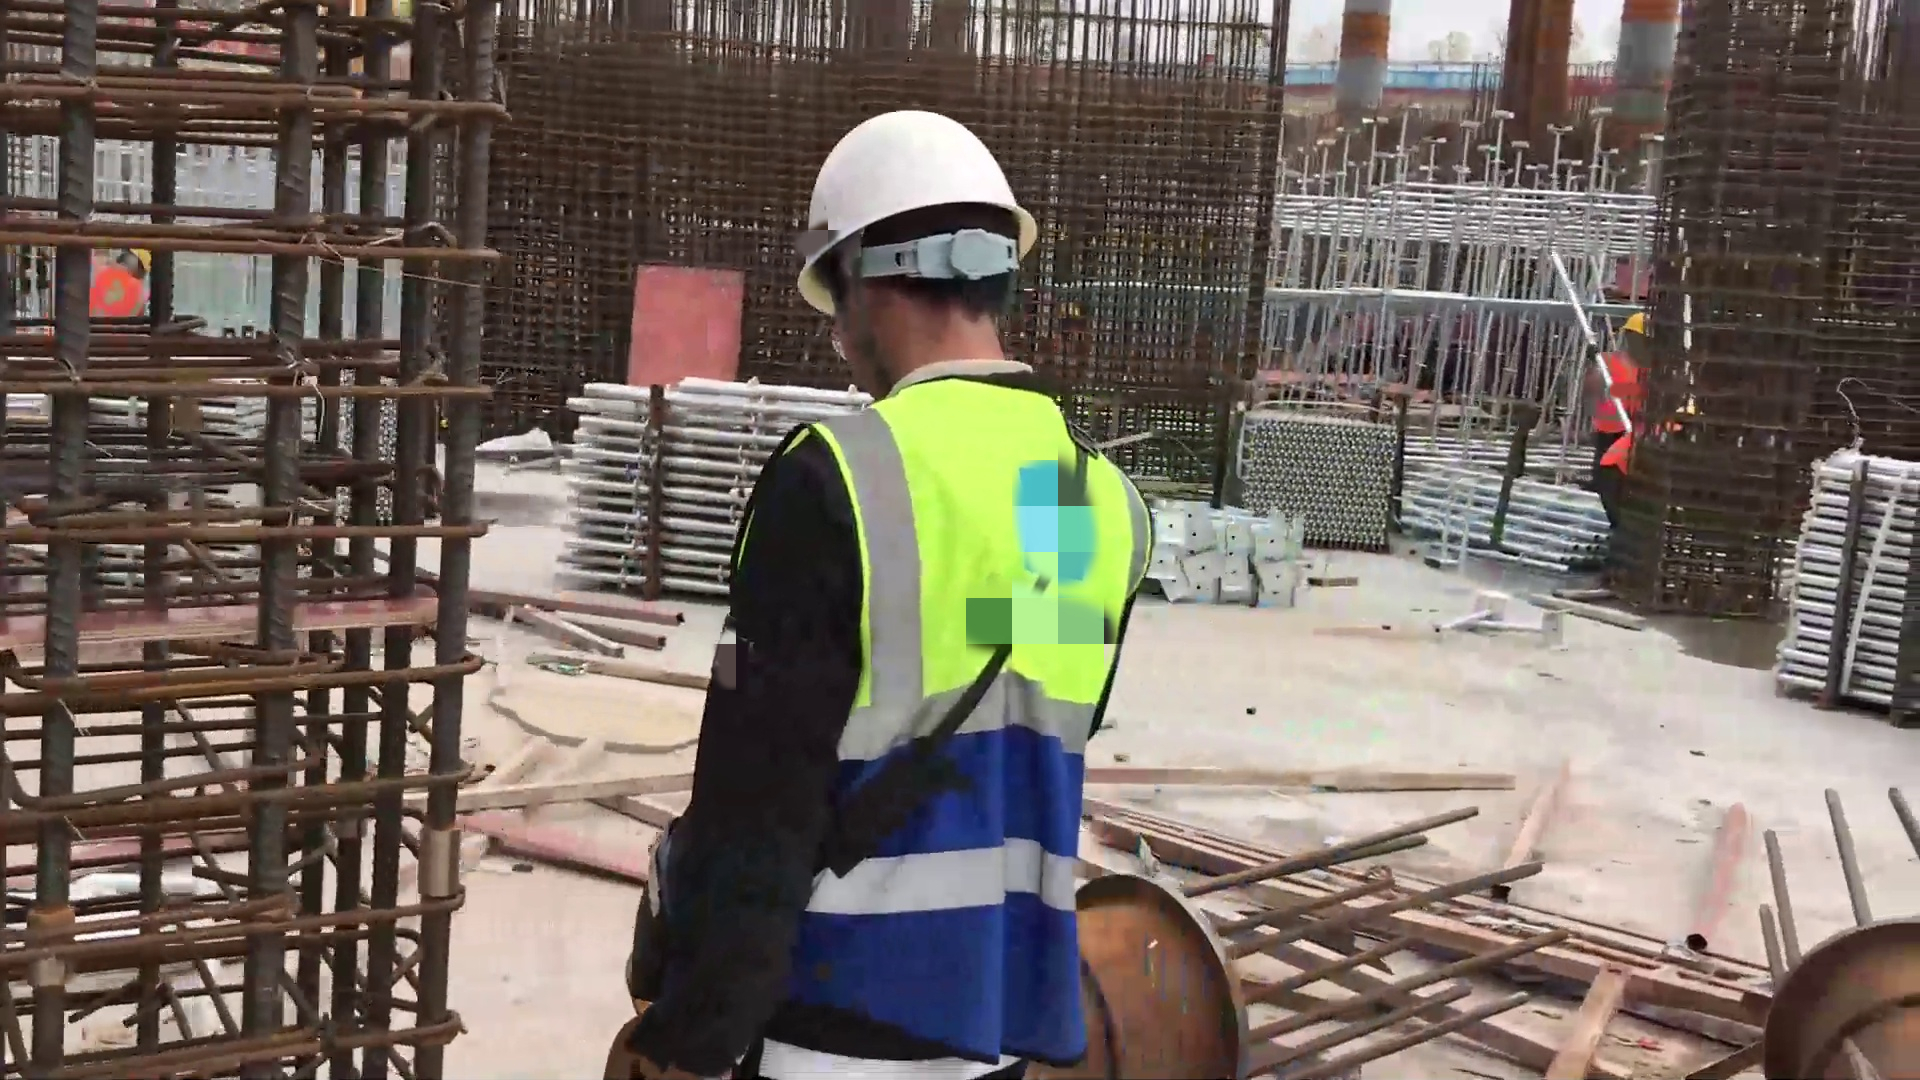fence: (1272, 57, 1677, 103)
helmet: (808, 104, 1039, 296), (1622, 307, 1660, 336), (121, 243, 157, 270)
person: (625, 75, 1163, 1080), (1603, 305, 1670, 579), (77, 232, 176, 337)
scaffold: (554, 367, 863, 571), (1787, 432, 1920, 723), (1239, 404, 1409, 551), (1415, 468, 1615, 571)
slogan: (1286, 57, 1499, 90)
vest: (693, 365, 1131, 1058), (1583, 351, 1635, 429), (89, 261, 145, 321), (1602, 420, 1675, 460)
